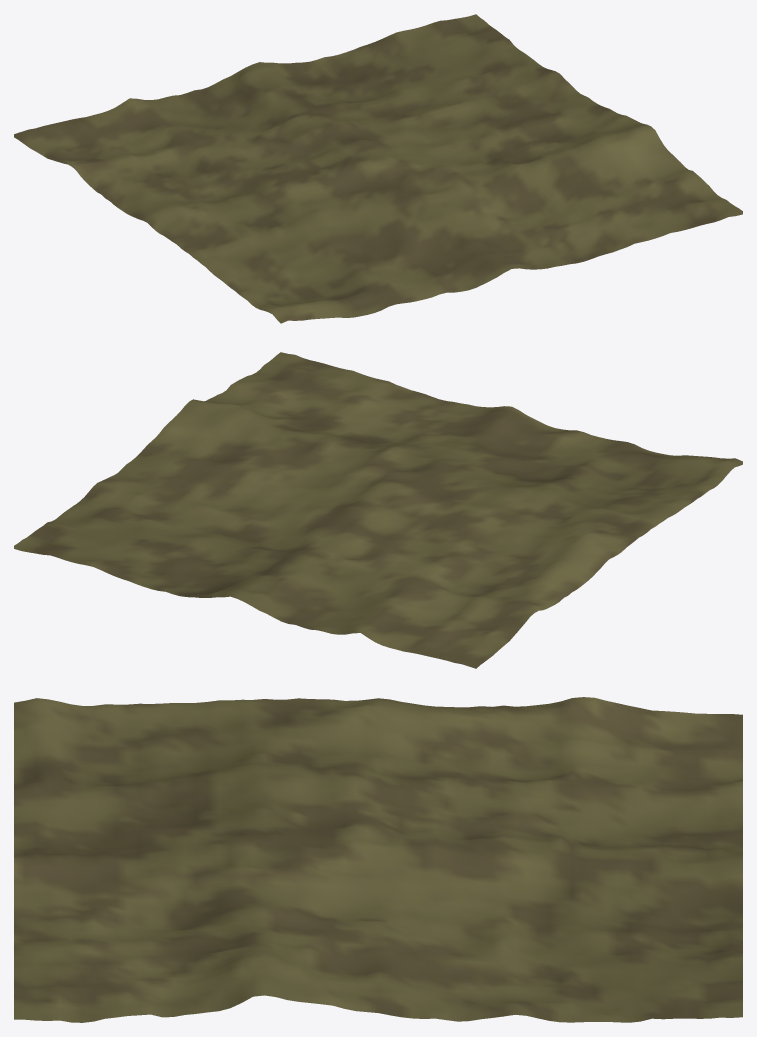
Rendered from land_f_08_06.glb.
The picture shows the model from 3 angles, top to bottom: view 1: azimuth 30°, elevation 25°; view 2: azimuth 150°, elevation 25°; view 3: azimuth 270°, elevation 25°; orthographic projection. The views are drawn at different scales.
Parts seen in each view (by area): view 1: land_f_08_06; view 2: land_f_08_06; view 3: land_f_08_06.
Boxes of the visible parts, left/top/right/bottom form: land_f_08_06: left=14, top=14, right=742, bottom=323; land_f_08_06: left=14, top=352, right=742, bottom=668; land_f_08_06: left=14, top=697, right=742, bottom=1022.
Size of the model in its own units: 3840 by 244 by 3840.
